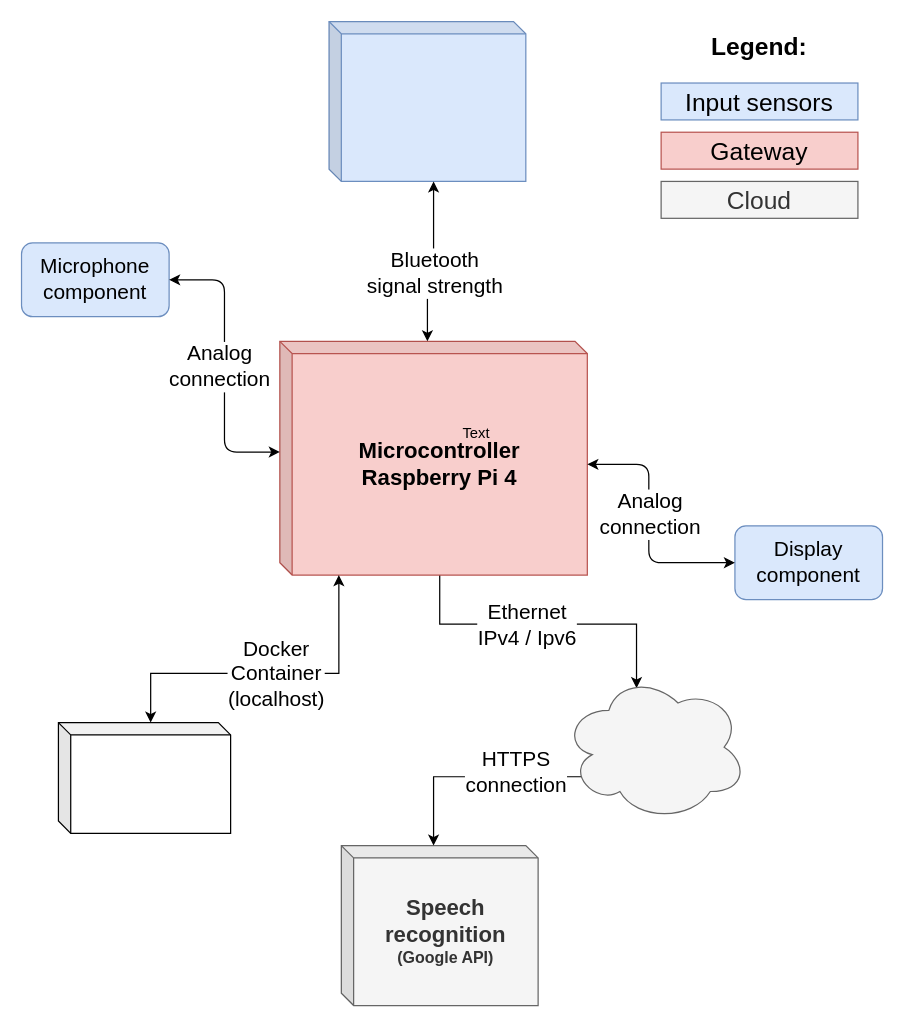
Image size: 904x1027. Some labels were removed from this diagram. The shapes that lost their labels are listed below. From the top down, each one's centre as x and y in pixels, then its label:
At point (427, 100): "Moblie Phones (Or Bluetooth chip)".
At point (654, 746): "Internet".
At point (144, 777): "Database (MySQL)".
